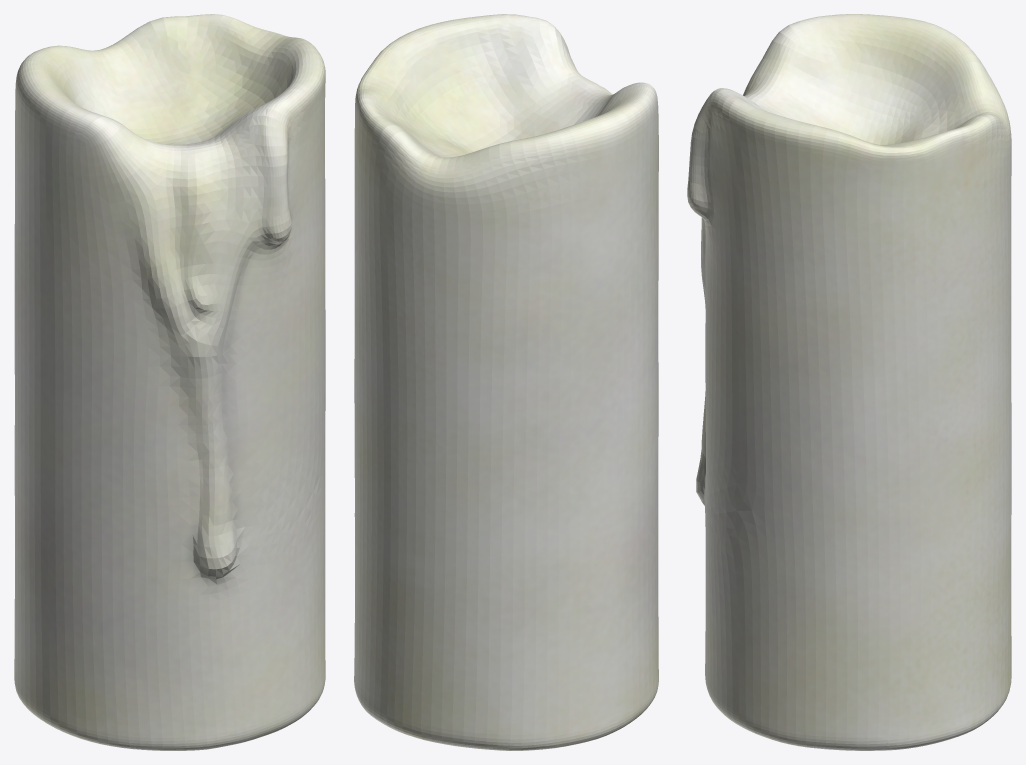
Rendered from tallCandle.obj.
3 views of the same model, side by side, from view 1: azimuth 30°, elevation 25°; view 2: azimuth 150°, elevation 25°; view 3: azimuth 270°, elevation 25° (orthographic). The views are drawn at different scales.
Visible parts, largest first — view 1: ZBrush_defualt_group; view 2: ZBrush_defualt_group; view 3: ZBrush_defualt_group.
Boxes of the visible parts, x1,y1,x2,y2 form: ZBrush_defualt_group: (14, 14, 325, 750); ZBrush_defualt_group: (354, 14, 658, 750); ZBrush_defualt_group: (687, 14, 1011, 750).
Bounding box in the file's own units: 1.99 × 4.45 × 2.1.
